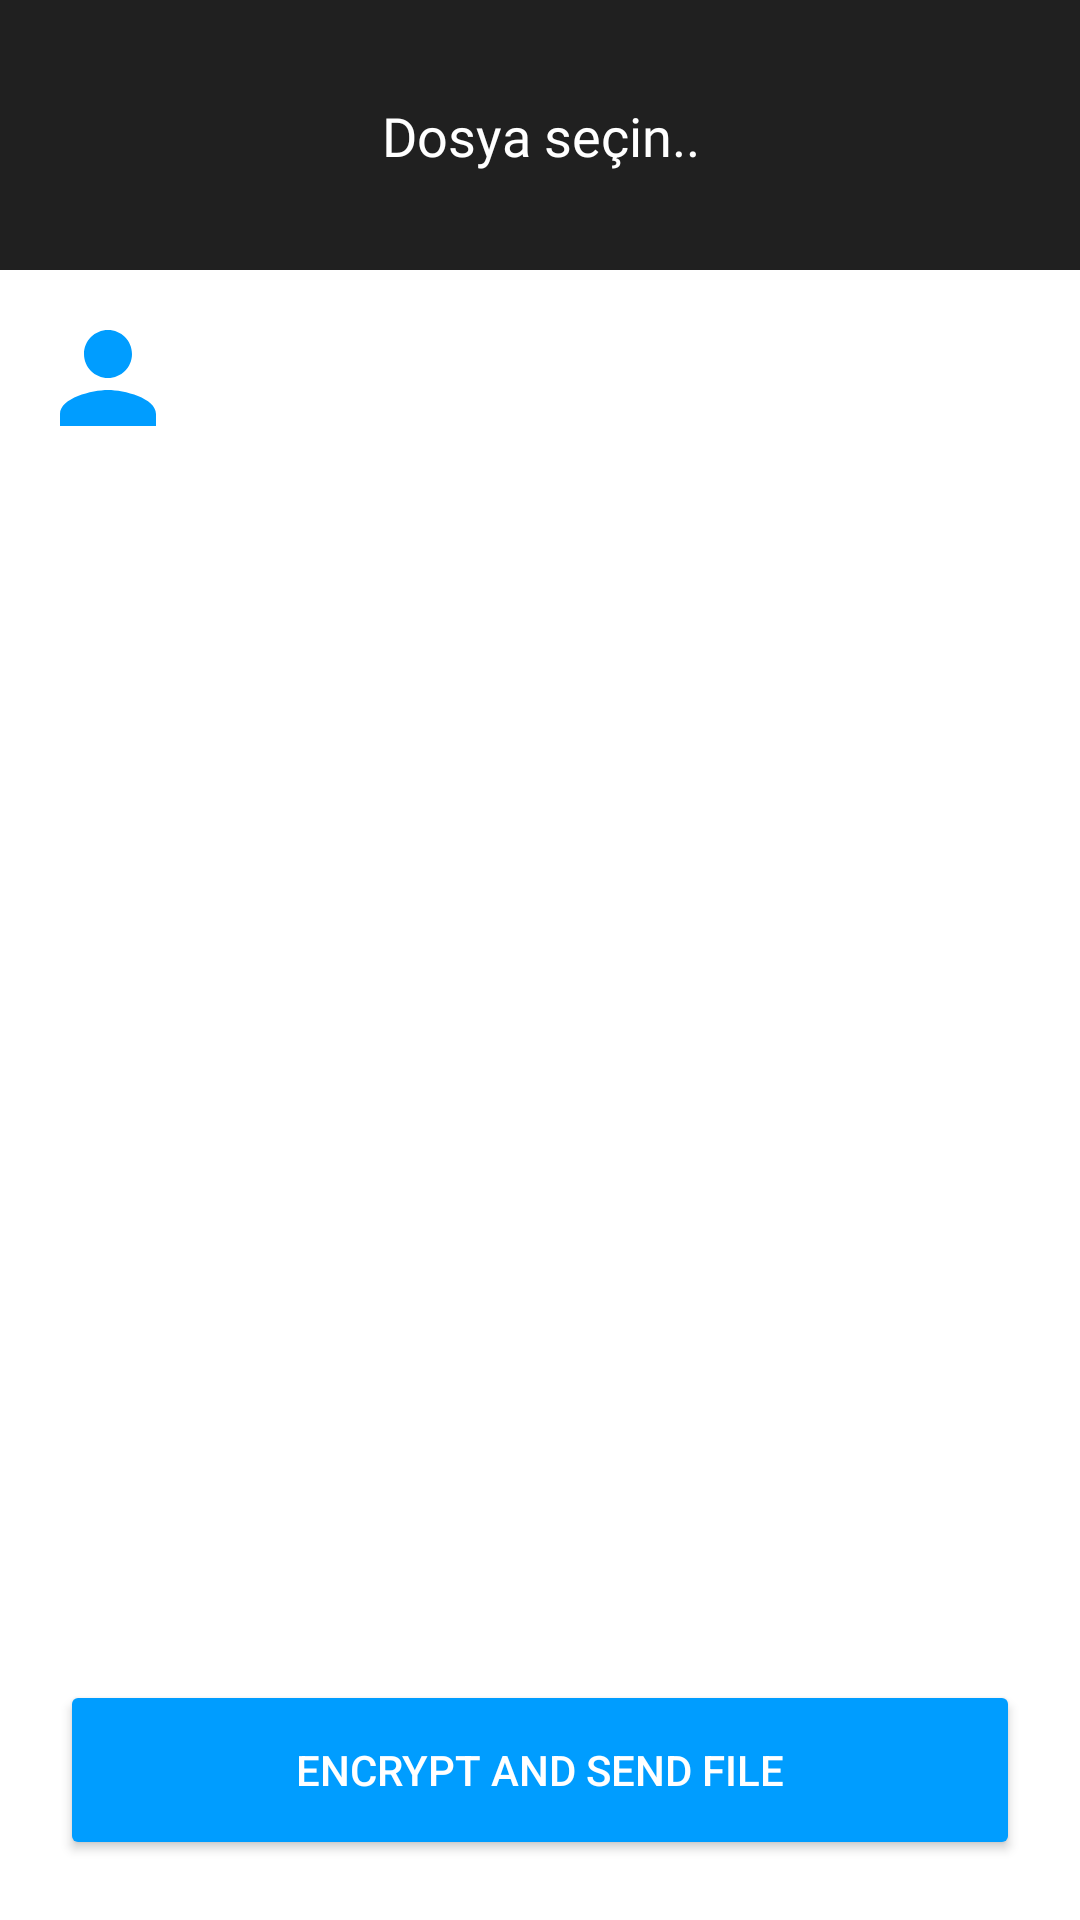

Point at icon controls on the screen. Image size 1080px x 1920px, points as (x=x, y=y).
person: (x=108, y=378)
